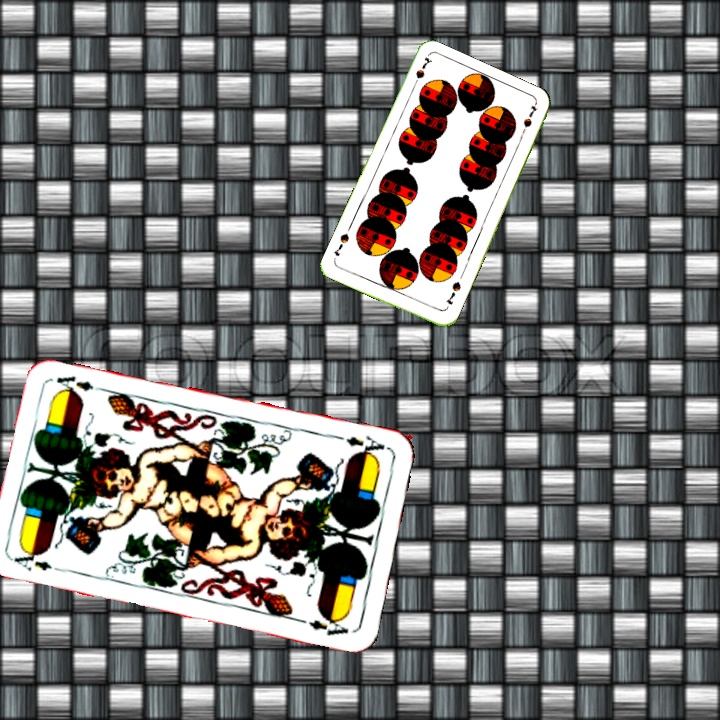EA: (331, 430, 389, 460), (9, 551, 68, 576)
S7: (409, 53, 434, 92), (442, 277, 463, 307)
